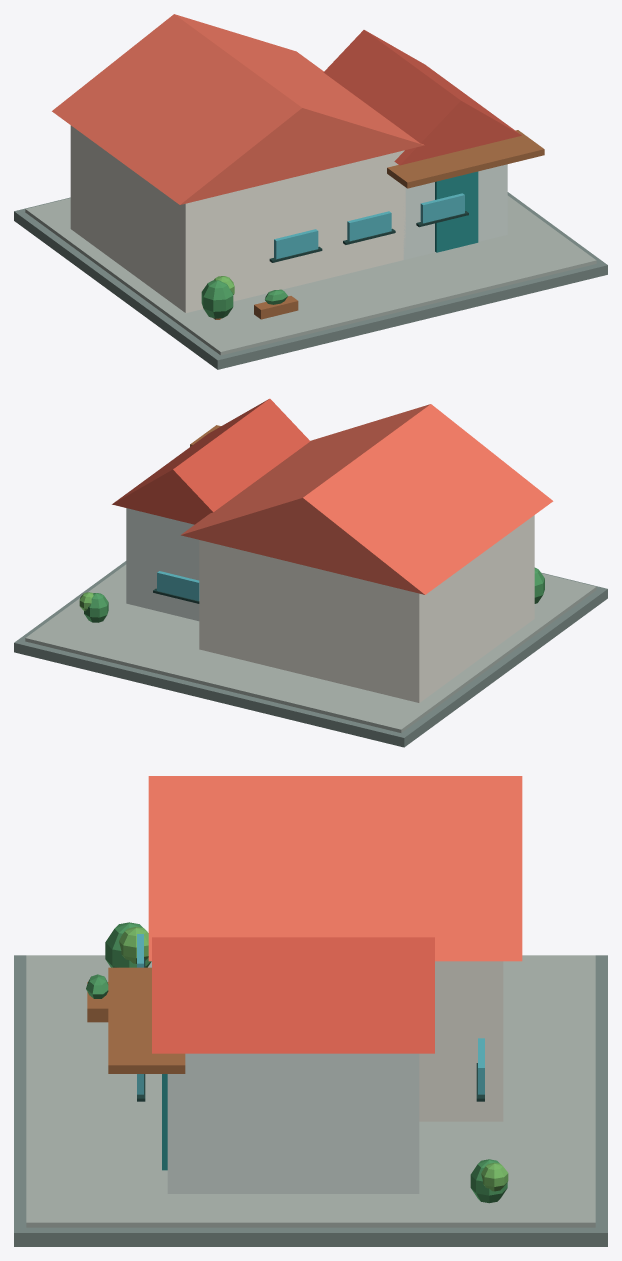
The model's file is house_lv2.glb.
3 views of the same model, one above another, from view 1: azimuth 30°, elevation 25°; view 2: azimuth 150°, elevation 25°; view 3: azimuth 270°, elevation 25° (orthographic). The views are drawn at different scales.
Parts seen in each view (by area): view 1: coral, ivory, concrete, terracotta, pavement, wood, white, glass, teal, green, dark; view 2: coral, ivory, concrete, terracotta, pavement, white, glass, green; view 3: concrete, coral, white, terracotta, pavement, ivory, wood, green, foliage, glass.
Part boxes in pixels (bbox=[...]): coral: bbox=[52, 14, 424, 204]; ivory: bbox=[70, 125, 405, 312]; concrete: bbox=[25, 195, 596, 355]; terracotta: bbox=[323, 30, 521, 165]; pavement: bbox=[14, 192, 607, 369]; wood: bbox=[213, 130, 544, 319]; white: bbox=[403, 164, 507, 259]; glass: bbox=[274, 193, 464, 259]; teal: bbox=[435, 171, 478, 252]; green: bbox=[201, 280, 287, 318]; dark: bbox=[269, 211, 468, 262]; coral: bbox=[181, 404, 553, 594]; ivory: bbox=[199, 515, 534, 702]; concrete: bbox=[25, 564, 596, 732]; terracotta: bbox=[112, 398, 310, 524]; pavement: bbox=[14, 561, 607, 747]; white: bbox=[126, 508, 199, 621]; glass: bbox=[157, 571, 199, 600]; green: bbox=[84, 567, 544, 622]; concrete: bbox=[26, 955, 595, 1227]; coral: bbox=[148, 776, 522, 961]; white: bbox=[167, 1053, 419, 1193]; terracotta: bbox=[152, 937, 434, 1053]; pavement: bbox=[14, 955, 607, 1246]; ivory: bbox=[419, 961, 503, 1121]; wood: bbox=[87, 967, 185, 1073]; green: bbox=[86, 922, 507, 1203]; foliage: bbox=[119, 926, 508, 1191]; glass: bbox=[137, 934, 484, 1094].
Size of the model in its own units: 9.4 by 4.52 by 8.5.
